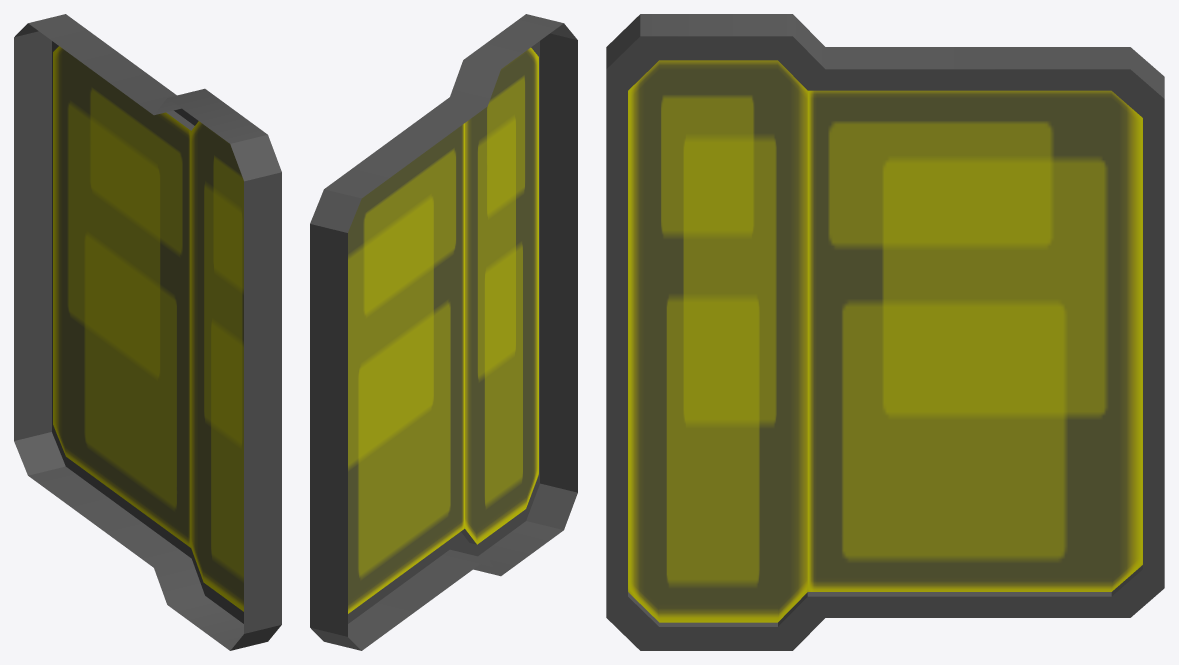
File: Wall_Panel.fbx
3 views of the same model, side by side, from view 1: azimuth 30°, elevation 25°; view 2: azimuth 150°, elevation 25°; view 3: azimuth 270°, elevation 25° (orthographic). The views are drawn at different scales.
Parts seen in each view (by area): view 1: Wall_Panel_02; view 2: Wall_Panel_02; view 3: Wall_Panel_02.
Part boxes in pixels (x1,y1,x2,y2): Wall_Panel_02: (14,14,281,650); Wall_Panel_02: (310,14,577,650); Wall_Panel_02: (606,14,1164,650).
Bounding box in the file's own units: 24.39 × 312 × 257.
